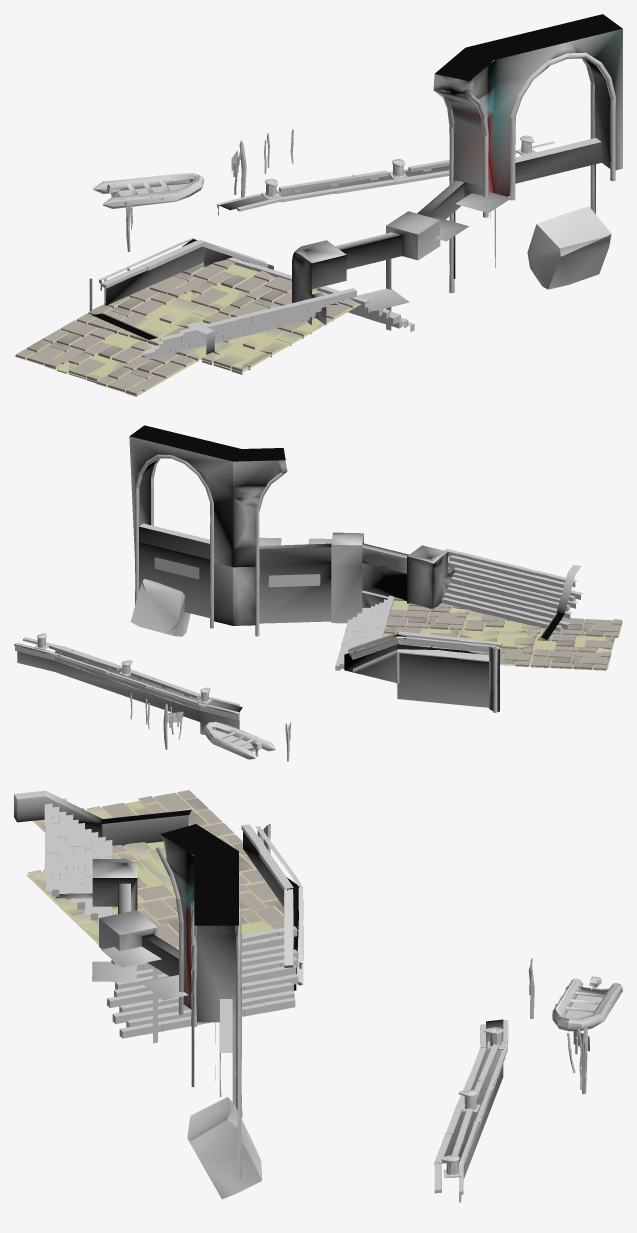
The model's file is start.glb.
3 renders of one model, top to bottom at view 1: azimuth 30°, elevation 25°; view 2: azimuth 150°, elevation 25°; view 3: azimuth 270°, elevation 25°, orthographic. The views are drawn at different scales.
Parts seen in each view (by area): view 1: wall1, wall2, stone, trim, wall6, wall5, inflatable_boat, TileA_START5, TileA_START8, TileA_START11, TileA_START4, TileA_START9 (+16 smaller); view 2: wall1, wall4, wall2, wall5, trim, stone, inflatable_boat, TileA_START5, waterside_START6, waterside_START10, waterside_START9, TileA_START1 (+15 smaller); view 3: wall1, wall2, wall5, stone, wall6, trim, inflatable_boat, waterside_START1, waterside_START2, TileA_START5, wall3, waterside_START3 (+17 smaller).
Boxes of the visible parts, <box> form: wall1: <box>386,14,622,330</box>; wall2: <box>92,142,601,354</box>; stone: <box>527,206,611,289</box>; trim: <box>89,52,615,311</box>; wall6: <box>294,192,511,311</box>; wall5: <box>99,141,555,290</box>; inflatable_boat: <box>93,173,204,208</box>; TileA_START5: <box>14,320,116,369</box>; TileA_START8: <box>201,328,302,374</box>; TileA_START11: <box>56,334,154,382</box>; TileA_START4: <box>95,353,197,396</box>; TileA_START9: <box>180,265,276,311</box>; wall1: <box>129,425,397,682</box>; wall4: <box>139,542,488,707</box>; wall2: <box>17,526,581,734</box>; wall5: <box>14,631,502,720</box>; trim: <box>135,454,497,712</box>; stone: <box>130,579,190,636</box>; inflatable_boat: <box>203,722,275,759</box>; TileA_START5: <box>529,649,611,670</box>; waterside_START6: <box>441,592,569,631</box>; waterside_START10: <box>444,548,577,587</box>; waterside_START9: <box>448,561,583,601</box>; TileA_START1: <box>386,609,467,630</box>; wall1: <box>142,824,238,1106</box>; wall2: <box>14,790,503,1178</box>; wall5: <box>241,824,508,1202</box>; stone: <box>187,1097,262,1199</box>; wall6: <box>92,858,188,1000</box>; trim: <box>156,824,270,1179</box>; inflatable_boat: <box>552,976,622,1031</box>; waterside_START1: <box>119,990,295,1038</box>; waterside_START2: <box>112,974,298,1023</box>; TileA_START5: <box>137,790,234,838</box>; wall3: <box>286,877,503,1163</box>; waterside_START3: <box>107,957,298,1007</box>.
Size of the model in its own units: 14.78 by 5.44 by 10.58.
